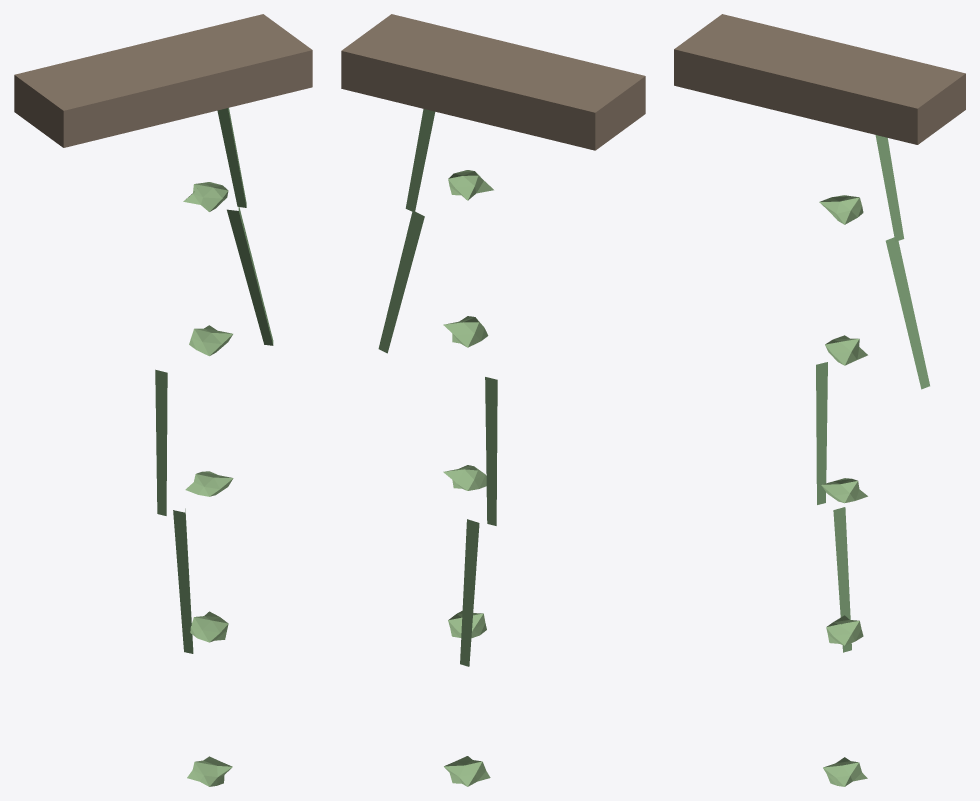
The model's file is vine_v38.glb.
The picture shows the model from 3 angles, left to right: view 1: azimuth 30°, elevation 25°; view 2: azimuth 150°, elevation 25°; view 3: azimuth 330°, elevation 25°; orthographic projection. The views are drawn at different scales.
Visible parts, largest first — view 1: lod0; view 2: lod0; view 3: lod0.
Boxes of the visible parts, x1,y1,x2,y2 form: lod0: [14, 14, 312, 786]; lod0: [341, 14, 645, 786]; lod0: [674, 14, 965, 786].
Size of what is drawn, in the model's own units: 0.7 by 1.95 by 0.2467.
